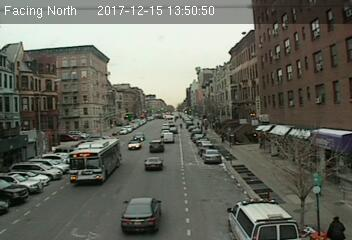bus: (68, 138, 123, 182)
car: (122, 197, 165, 232), (201, 149, 221, 163), (143, 156, 164, 169), (148, 140, 164, 154), (127, 139, 143, 150), (162, 132, 175, 144), (131, 132, 143, 140)
police: (225, 197, 300, 240)
